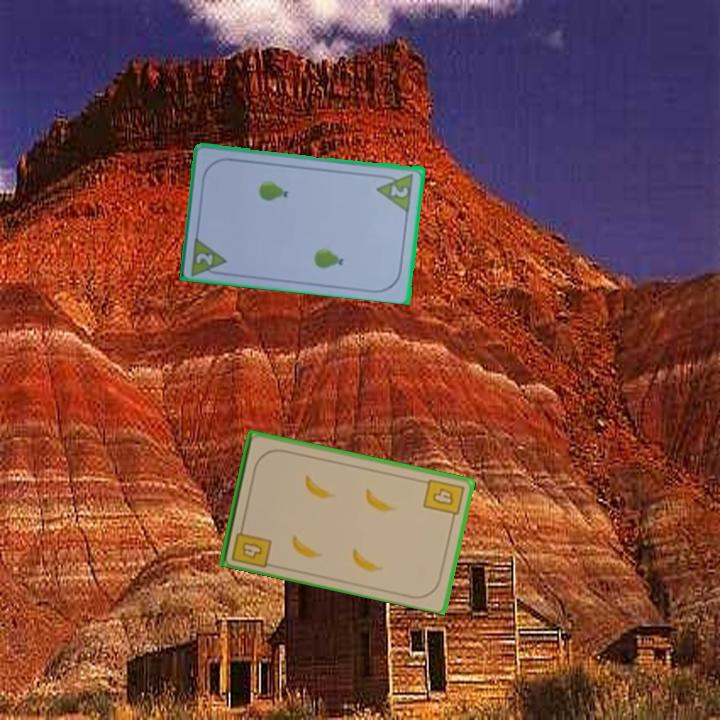2p: (187, 232, 231, 278), (374, 169, 416, 213)
4b: (420, 475, 467, 524), (228, 520, 274, 570)
